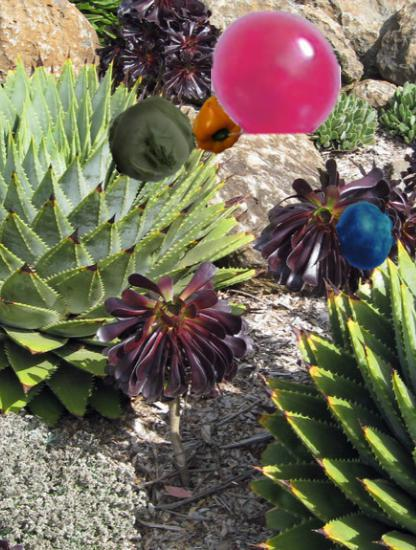Huckleberry: (332, 200, 402, 270)
Kohlrabi: (107, 97, 196, 186)
Pepper: (189, 98, 246, 155)
Redcurrant: (211, 8, 342, 139)
